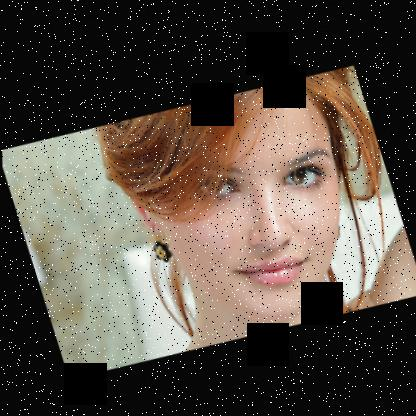Female: (107, 61, 379, 353)
